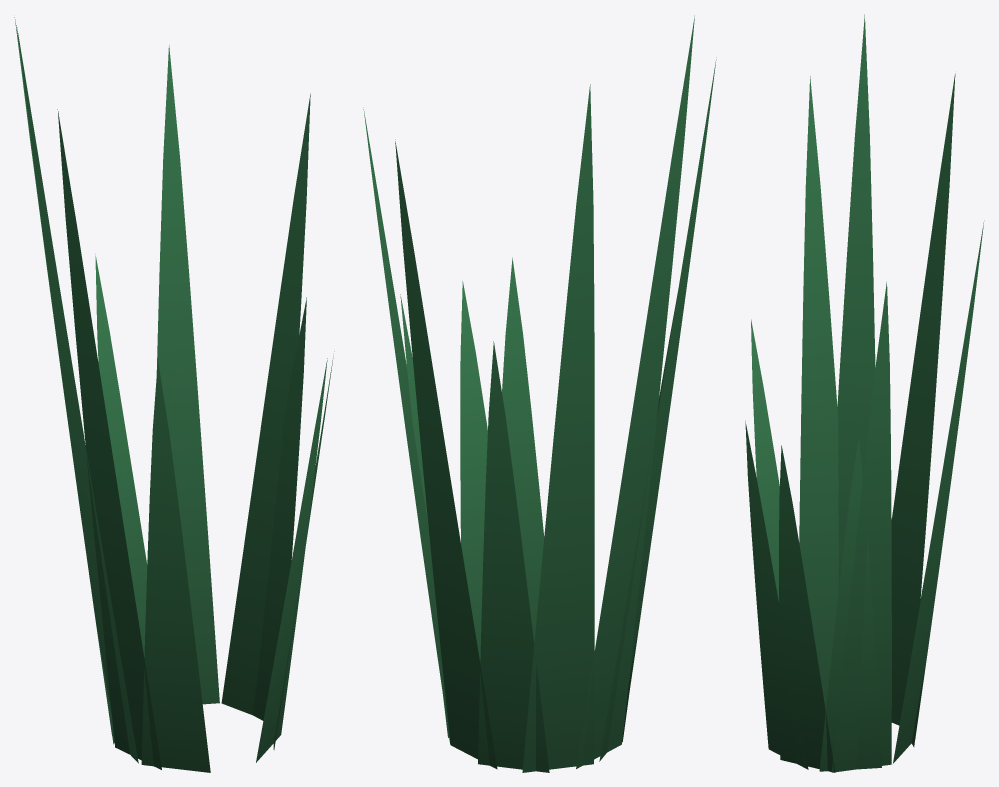
Rendered from seaweed.glb.
3 views of the same model, side by side, from view 1: azimuth 30°, elevation 25°; view 2: azimuth 150°, elevation 25°; view 3: azimuth 270°, elevation 25° (orthographic). The views are drawn at different scales.
Visible parts, largest first — view 1: seaweed_0, seaweed_1; view 2: seaweed_0, seaweed_1; view 3: seaweed_0, seaweed_1.
Part boxes in pixels (box(x1,y1,x2,y2)): seaweed_0: box(14, 17, 334, 772); seaweed_1: box(57, 93, 327, 769); seaweed_0: box(395, 15, 694, 772); seaweed_1: box(363, 57, 716, 772); seaweed_0: box(751, 14, 984, 772); seaweed_1: box(745, 76, 925, 772).
Size of the model in its own units: 0.6917 by 1.61 by 0.5306.
